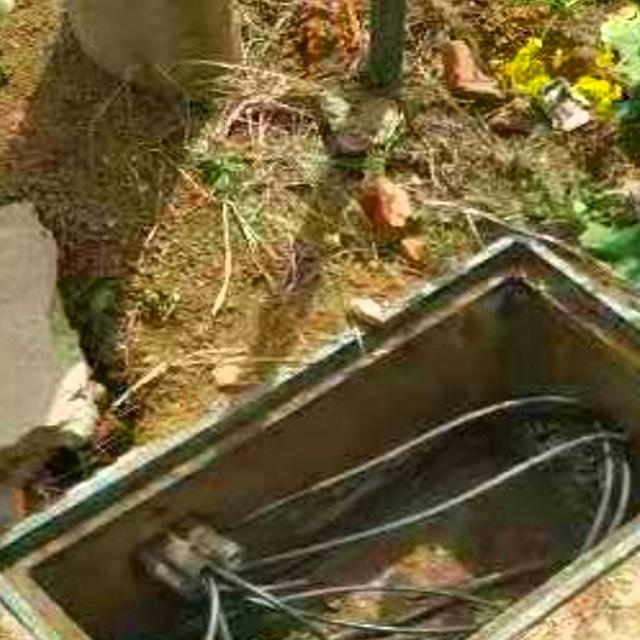lose: (0, 230, 640, 640)
